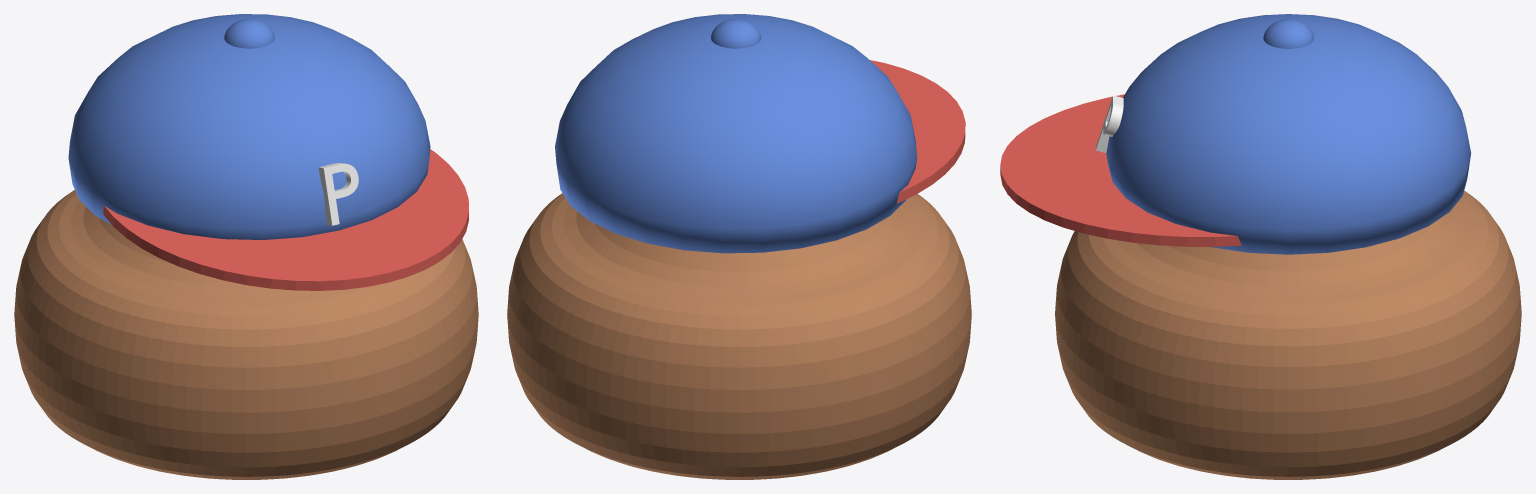
The model's file is head_var_hat-c.glb.
The picture shows the model from 3 angles, left to right: view 1: azimuth 30°, elevation 25°; view 2: azimuth 150°, elevation 25°; view 3: azimuth 270°, elevation 25°; orthographic projection.
Visible parts, largest first — view 1: tmp_head_03; view 2: tmp_head_03; view 3: tmp_head_03.
Boxes of the visible parts, box(x1,y1,x2,y2) form: tmp_head_03: box(14, 14, 478, 479); tmp_head_03: box(507, 14, 971, 479); tmp_head_03: box(1000, 14, 1521, 479).
Size of the model in its own units: 1.07 by 0.9702 by 1.2.
